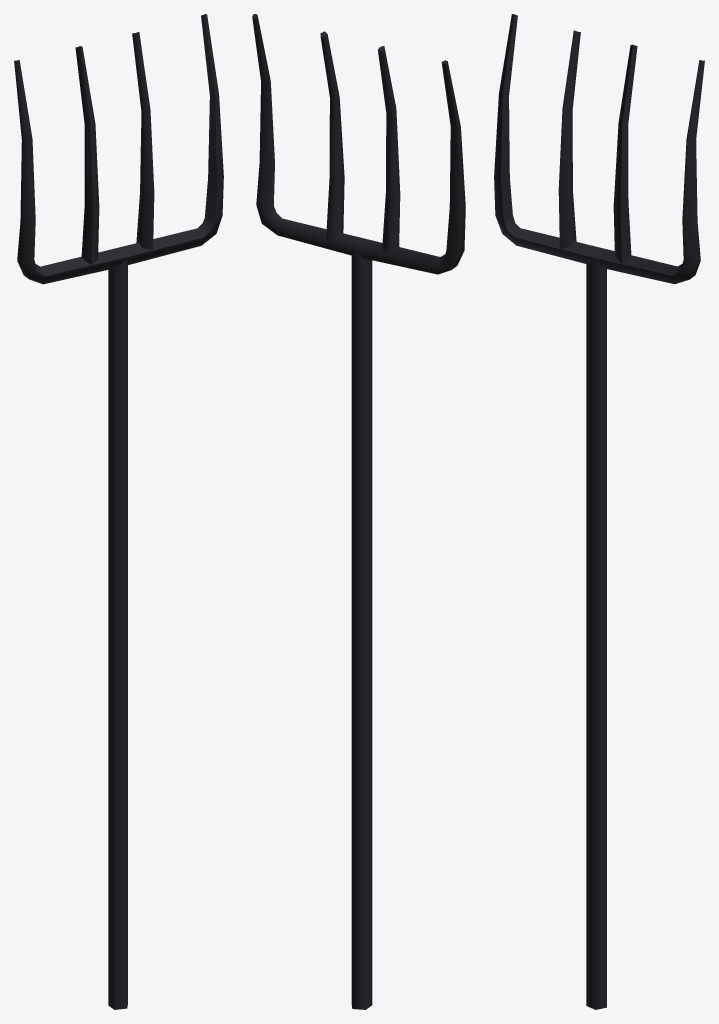
Rendered from Fork_1.fbx.
3 views of the same model, side by side, from view 1: azimuth 30°, elevation 25°; view 2: azimuth 150°, elevation 25°; view 3: azimuth 330°, elevation 25° (orthographic).
Parts seen in each view (by area): view 1: Fork_1; view 2: Fork_1; view 3: Fork_1.
Boxes of the visible parts, x1,y1,x2,y2 form: Fork_1: (14, 14, 223, 1009); Fork_1: (252, 14, 465, 1009); Fork_1: (494, 14, 704, 1009).
Size of the model in its own units: 13.55 by 62.17 by 2.09.
